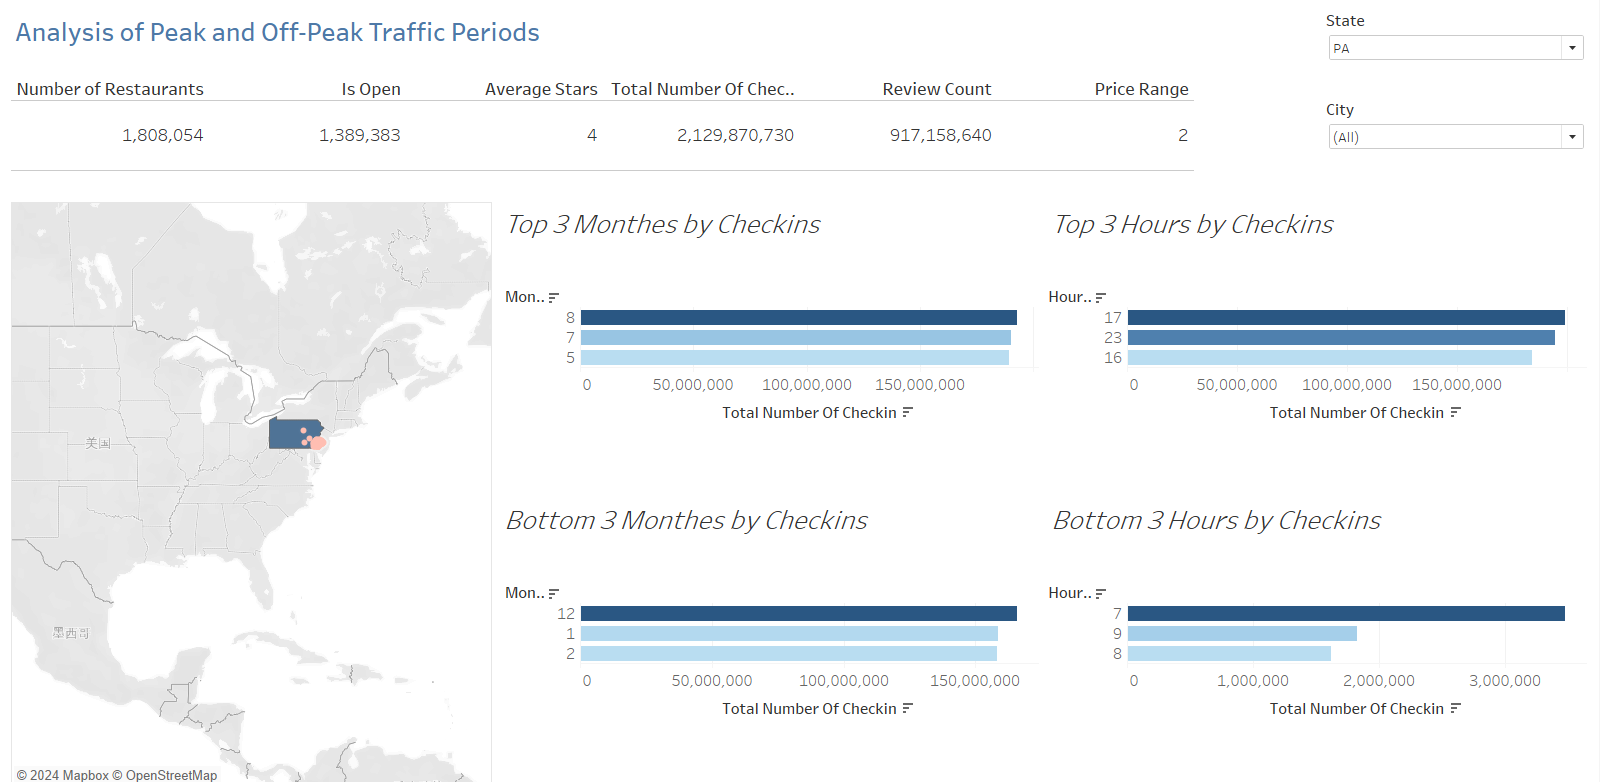

What the dashboard file says about the page in this screenshot:
{"tool":"tableau","page":{"name":"Top and Bottom","canvas":[1600,800],"ordinal":1},"visuals":[{"type":"worksheet","title":"Overview Table","mark":"Automatic","box":[8,8,1315,192]},{"type":"filter","title":"Map","param":"[federated.04s5m5o0ixxofv187frpv17251t0].[none:state:nk]","box":[1323,8,269,89]},{"type":"filter","title":"Top 3 Monthes by Checkins","param":"[federated.04s5m5o0ixxofv187frpv17251t0].[none:city:nk]","box":[1323,97,269,103]},{"type":"worksheet","title":"Map","mark":"Multipolygon","box":[8,200,489,592]},{"type":"worksheet","title":"Top 3 Monthes by Checkins","mark":"Bar","rows":["date"],"cols":["total_number_of_checkin"],"box":[497,200,547.4,296]},{"type":"worksheet","title":"Top 3 Hours by Checkins","mark":"Bar","rows":["date"],"cols":["total_number_of_checkin"],"box":[1044.4,200,547.6,296]},{"type":"worksheet","title":"Bottom 3 Monthes by Checkins","mark":"Bar","rows":["date"],"cols":["total_number_of_checkin"],"box":[497,496,547.4,296]},{"type":"worksheet","title":"Bottom 3 Hours by Checkins","mark":"Bar","rows":["date"],"cols":["total_number_of_checkin"],"box":[1044.4,496,547.6,296]}]}

Visuals, with their boxes in screenshot pixels (x1, y1, x2, y2), scaled from the page's 1600x800 canvas onto the 1600x782 screenshot:
"Overview Table" worksheet: 8 8 1323 196
"Map" filter: 1323 8 1592 95
"Top 3 Monthes by Checkins" filter: 1323 95 1592 196
"Map" worksheet (Multipolygon marks): 8 196 497 774
"Top 3 Monthes by Checkins" worksheet (Bar marks): 497 196 1044 485
"Top 3 Hours by Checkins" worksheet (Bar marks): 1044 196 1592 485
"Bottom 3 Monthes by Checkins" worksheet (Bar marks): 497 485 1044 774
"Bottom 3 Hours by Checkins" worksheet (Bar marks): 1044 485 1592 774
